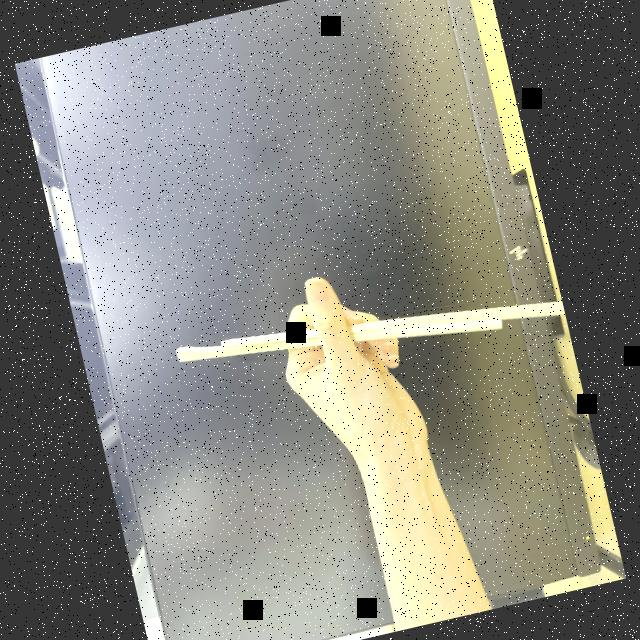stick: (167, 242, 522, 413)
